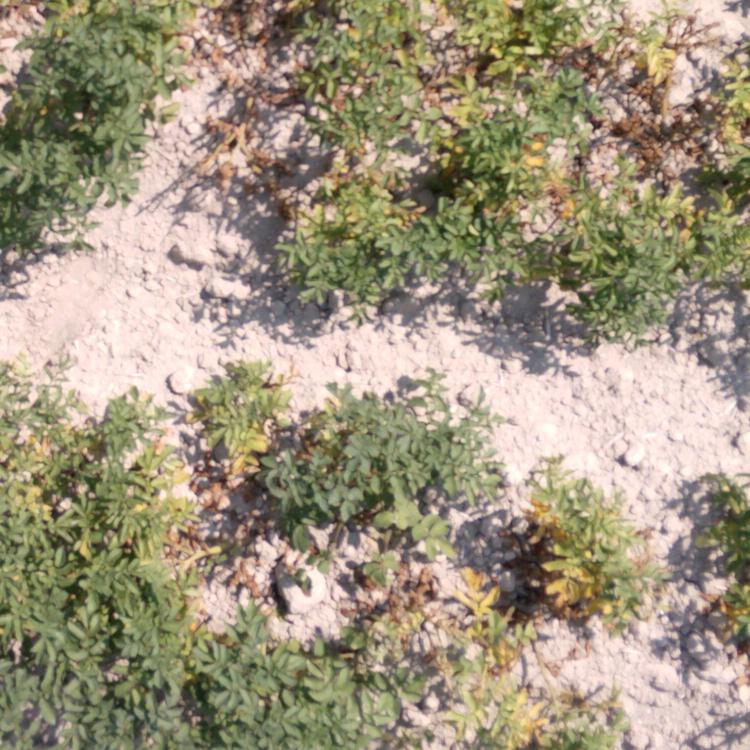healthy: (307, 395, 482, 521), (1, 675, 188, 741), (202, 672, 372, 744), (21, 58, 173, 130), (1, 138, 102, 245)
stressed: (1, 370, 185, 557), (546, 172, 686, 341), (279, 158, 430, 308), (523, 454, 660, 616), (346, 540, 508, 667), (443, 1, 574, 158), (1, 568, 215, 663), (282, 1, 418, 130), (610, 16, 747, 139), (196, 360, 294, 499), (426, 682, 610, 748), (695, 467, 750, 633), (27, 1, 191, 50), (690, 156, 750, 285), (461, 162, 520, 275)
